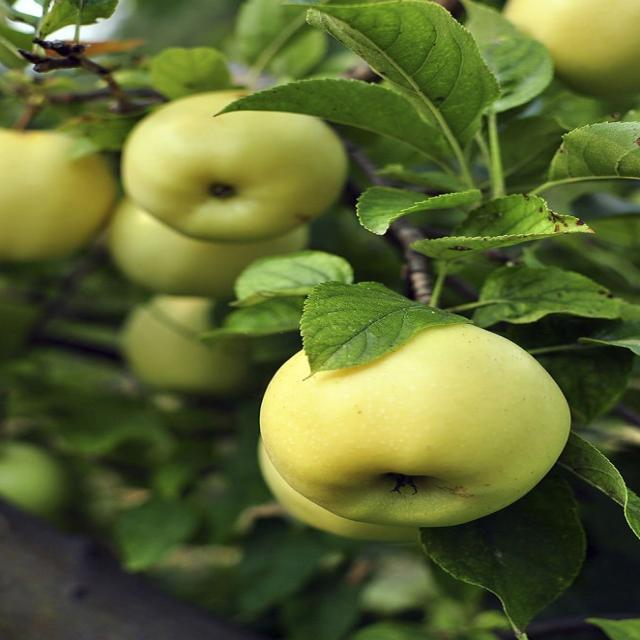Green Apple: (258, 317, 576, 527), (120, 82, 330, 228), (105, 171, 288, 285), (125, 285, 263, 392), (1, 117, 109, 234), (508, 1, 640, 82)
